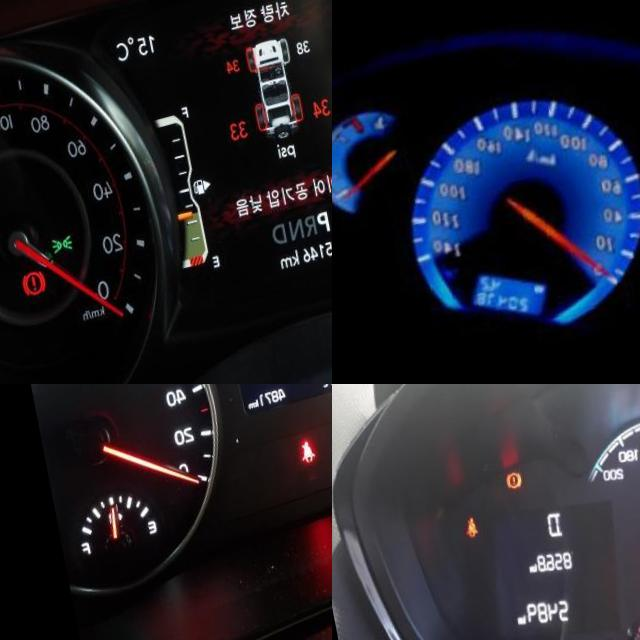SideLamp: (36, 238, 58, 258)
